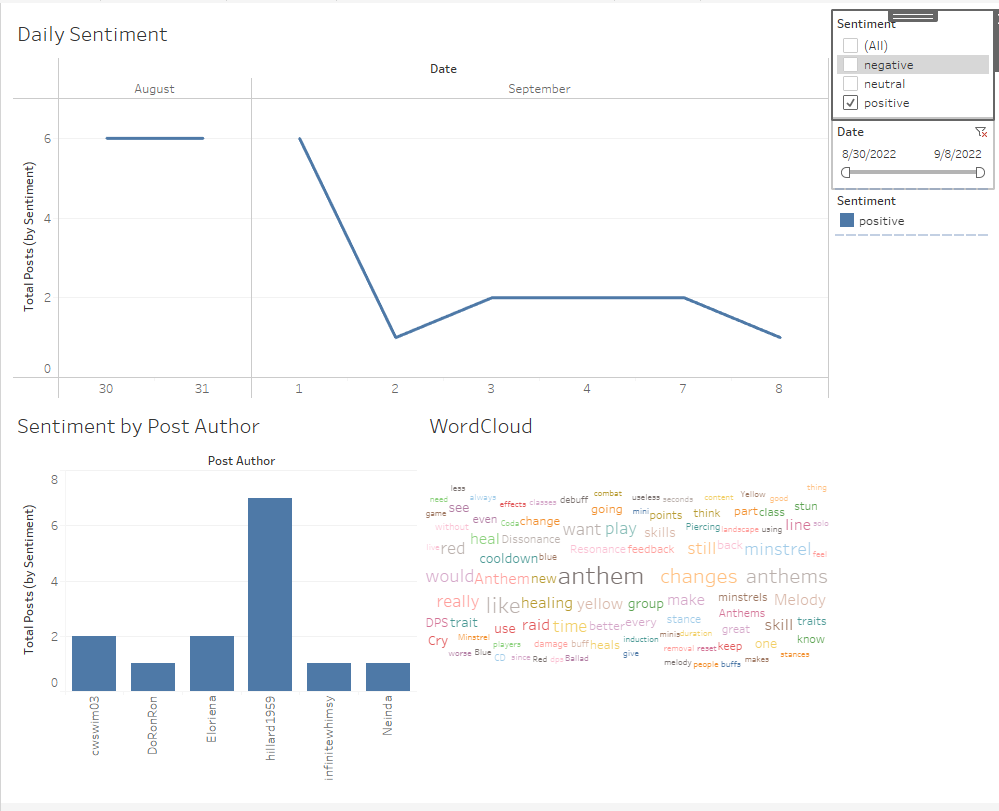

What the dashboard file says about the page in this screenshot:
{"tool":"tableau","page":{"name":"Forum Post Viz","canvas":[1000,800],"ordinal":0},"visuals":[{"type":"worksheet","title":"Daily Sentiment","mark":"Automatic","rows":["sentiment"],"cols":["date","date"],"box":[8,8,824,392]},{"type":"filter","title":"Daily Sentiment","param":"[federated.1vblzge0nobvga15mavmz04bg39c].[none:sentiment:nk]","box":[832,8,160,108]},{"type":"filter","title":"Daily Sentiment","param":"[federated.1vblzge0nobvga15mavmz04bg39c].[none:date:qk]","box":[832,116,160,69]},{"type":"legend","title":"Daily Sentiment","param":"[federated.1vblzge0nobvga15mavmz04bg39c].[none:sentiment:nk]","box":[832,185,160,86]},{"type":"worksheet","title":"Sentiment by Post Author","mark":"Automatic","rows":["sentiment"],"cols":["author"],"box":[8,400,412,392]},{"type":"worksheet","title":"WordCloud","mark":"Text","box":[420,400,412,392]}]}

Visuals, with their boxes in screenshot pixels (x1, y1, x2, y2), scaled from the page's 1000x800 canvas onto the 999x811 screenshot:
"Daily Sentiment" worksheet: <region>8, 8, 831, 406</region>
"Daily Sentiment" filter: <region>831, 8, 991, 118</region>
"Daily Sentiment" filter: <region>831, 118, 991, 188</region>
"Daily Sentiment" legend: <region>831, 188, 991, 275</region>
"Sentiment by Post Author" worksheet: <region>8, 406, 420, 803</region>
"WordCloud" worksheet (Text marks): <region>420, 406, 831, 803</region>
